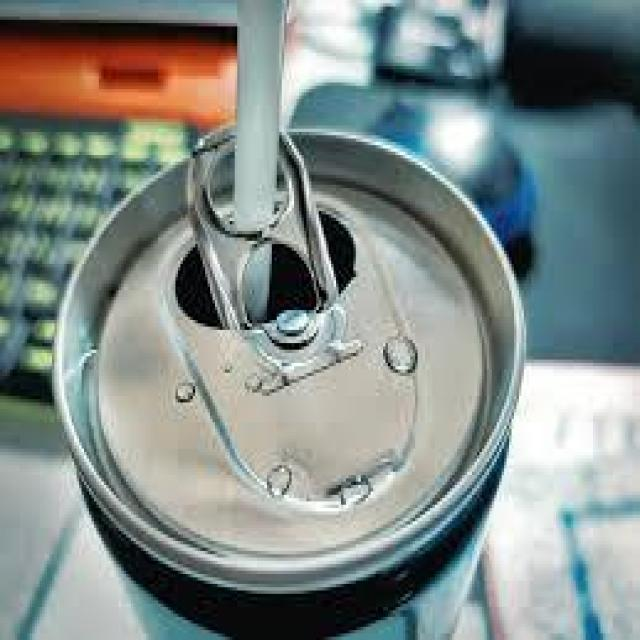can: (49, 132, 534, 640)
pop tab: (173, 115, 340, 322)
